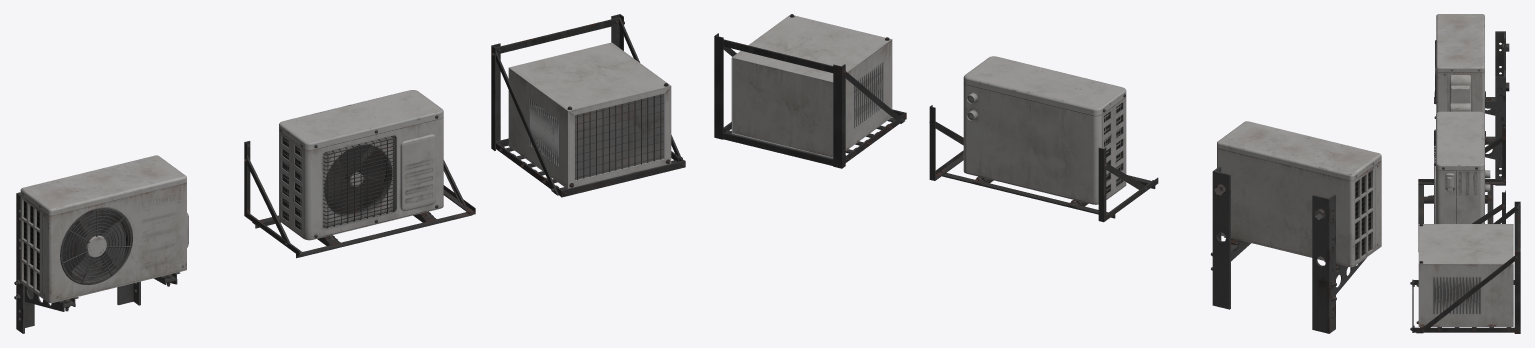
File: ac_units.glb
The picture shows the model from 3 angles, left to right: view 1: azimuth 30°, elevation 25°; view 2: azimuth 150°, elevation 25°; view 3: azimuth 270°, elevation 25°; orthographic projection. The views are drawn at different scales.
Parts seen in each view (by area): view 1: v2_korpus_low, korpus_low, v3_top_low, v3_inner_low, v3_side_low, v3_karkas_low, v2_bars_low, v2_metal_holder_low, v3_bars_low, blades_low, v2_blade_low, bars_low (+3 smaller); view 2: v2_korpus_low, korpus_low, v3_back_low, wall_mount_low, v3_top_low, v3_karkas_low, v3_side_low, v2_metal_holder_low, v3_inner_low, plank_down_low; view 3: v2_korpus_low, v3_side_low, korpus_low, v3_top_low, v3_karkas_low, wall_mount_low, v2_metal_holder_low, v3_inner_low, side_low, plank_down_low, v2_ec1_low, bolts_low (+2 smaller).
Boxes of the visible parts, x1,y1,x2,y2 form: v2_korpus_low: (279, 90, 443, 240); korpus_low: (20, 155, 186, 302); v3_top_low: (509, 42, 671, 115); v3_inner_low: (529, 93, 663, 179); v3_side_low: (508, 68, 671, 188); v3_karkas_low: (491, 14, 685, 197); v2_bars_low: (323, 136, 394, 228); v2_metal_holder_low: (244, 141, 475, 258); v3_bars_low: (575, 94, 663, 180); blades_low: (62, 209, 125, 279); v2_blade_low: (324, 145, 386, 213); bars_low: (62, 209, 131, 283); v2_korpus_low: (963, 56, 1126, 204); korpus_low: (1217, 121, 1381, 267); v3_back_low: (732, 58, 832, 157); wall_mount_low: (1212, 166, 1335, 333); v3_top_low: (732, 15, 892, 82); v3_karkas_low: (714, 33, 906, 168); v3_side_low: (731, 40, 892, 158); v2_metal_holder_low: (929, 105, 1158, 222); v3_inner_low: (854, 62, 882, 128); plank_down_low: (1231, 241, 1366, 294); v2_korpus_low: (1434, 111, 1484, 223); v3_side_low: (1418, 264, 1513, 326); korpus_low: (1436, 14, 1484, 114); v3_top_low: (1418, 224, 1513, 264); v3_karkas_low: (1412, 201, 1520, 333); wall_mount_low: (1495, 31, 1505, 185); v2_metal_holder_low: (1418, 124, 1505, 251); v3_inner_low: (1433, 277, 1480, 313); side_low: (1450, 75, 1470, 111); plank_down_low: (1434, 97, 1501, 159); v2_ec1_low: (1445, 172, 1455, 189); bolts_low: (1499, 43, 1509, 160).
Bounding box in the file's own units: 3.08 × 0.7467 × 0.5889.
Materials: 3 (3 with a texture image).
